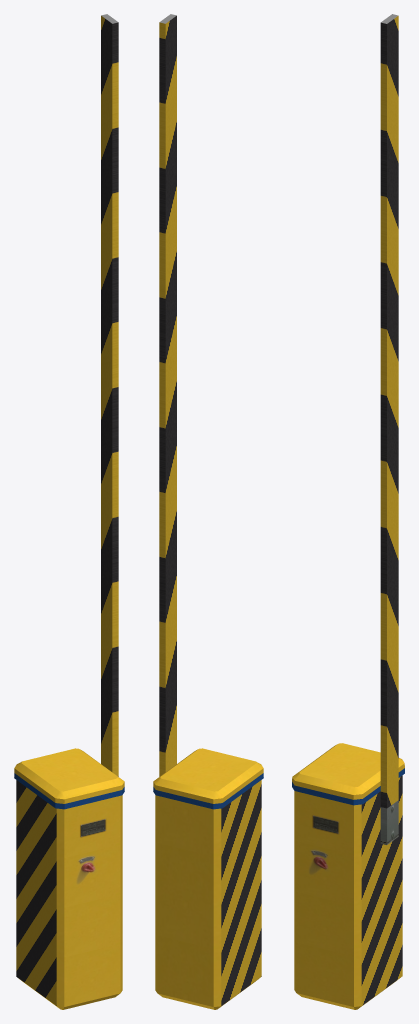
The model's file is LanGan LuZhang.FBX.
3 renders of one model, left to right at view 1: azimuth 30°, elevation 25°; view 2: azimuth 150°, elevation 25°; view 3: azimuth 330°, elevation 25°, orthographic. The views are drawn at different scales.
Parts seen in each view (by area): view 1: Box806, Box807; view 2: Box806, Box807; view 3: Box806, Box807.
Boxes of the visible parts, x1,y1,x2,y2 form: Box806: (14,748,124,1009); Box807: (101,14,118,776); Box806: (153,748,263,1009); Box807: (159,14,176,776); Box806: (292,743,404,1009); Box807: (380,14,398,844).
Bounding box in the file's own units: 39.57 × 464 × 42.01.
